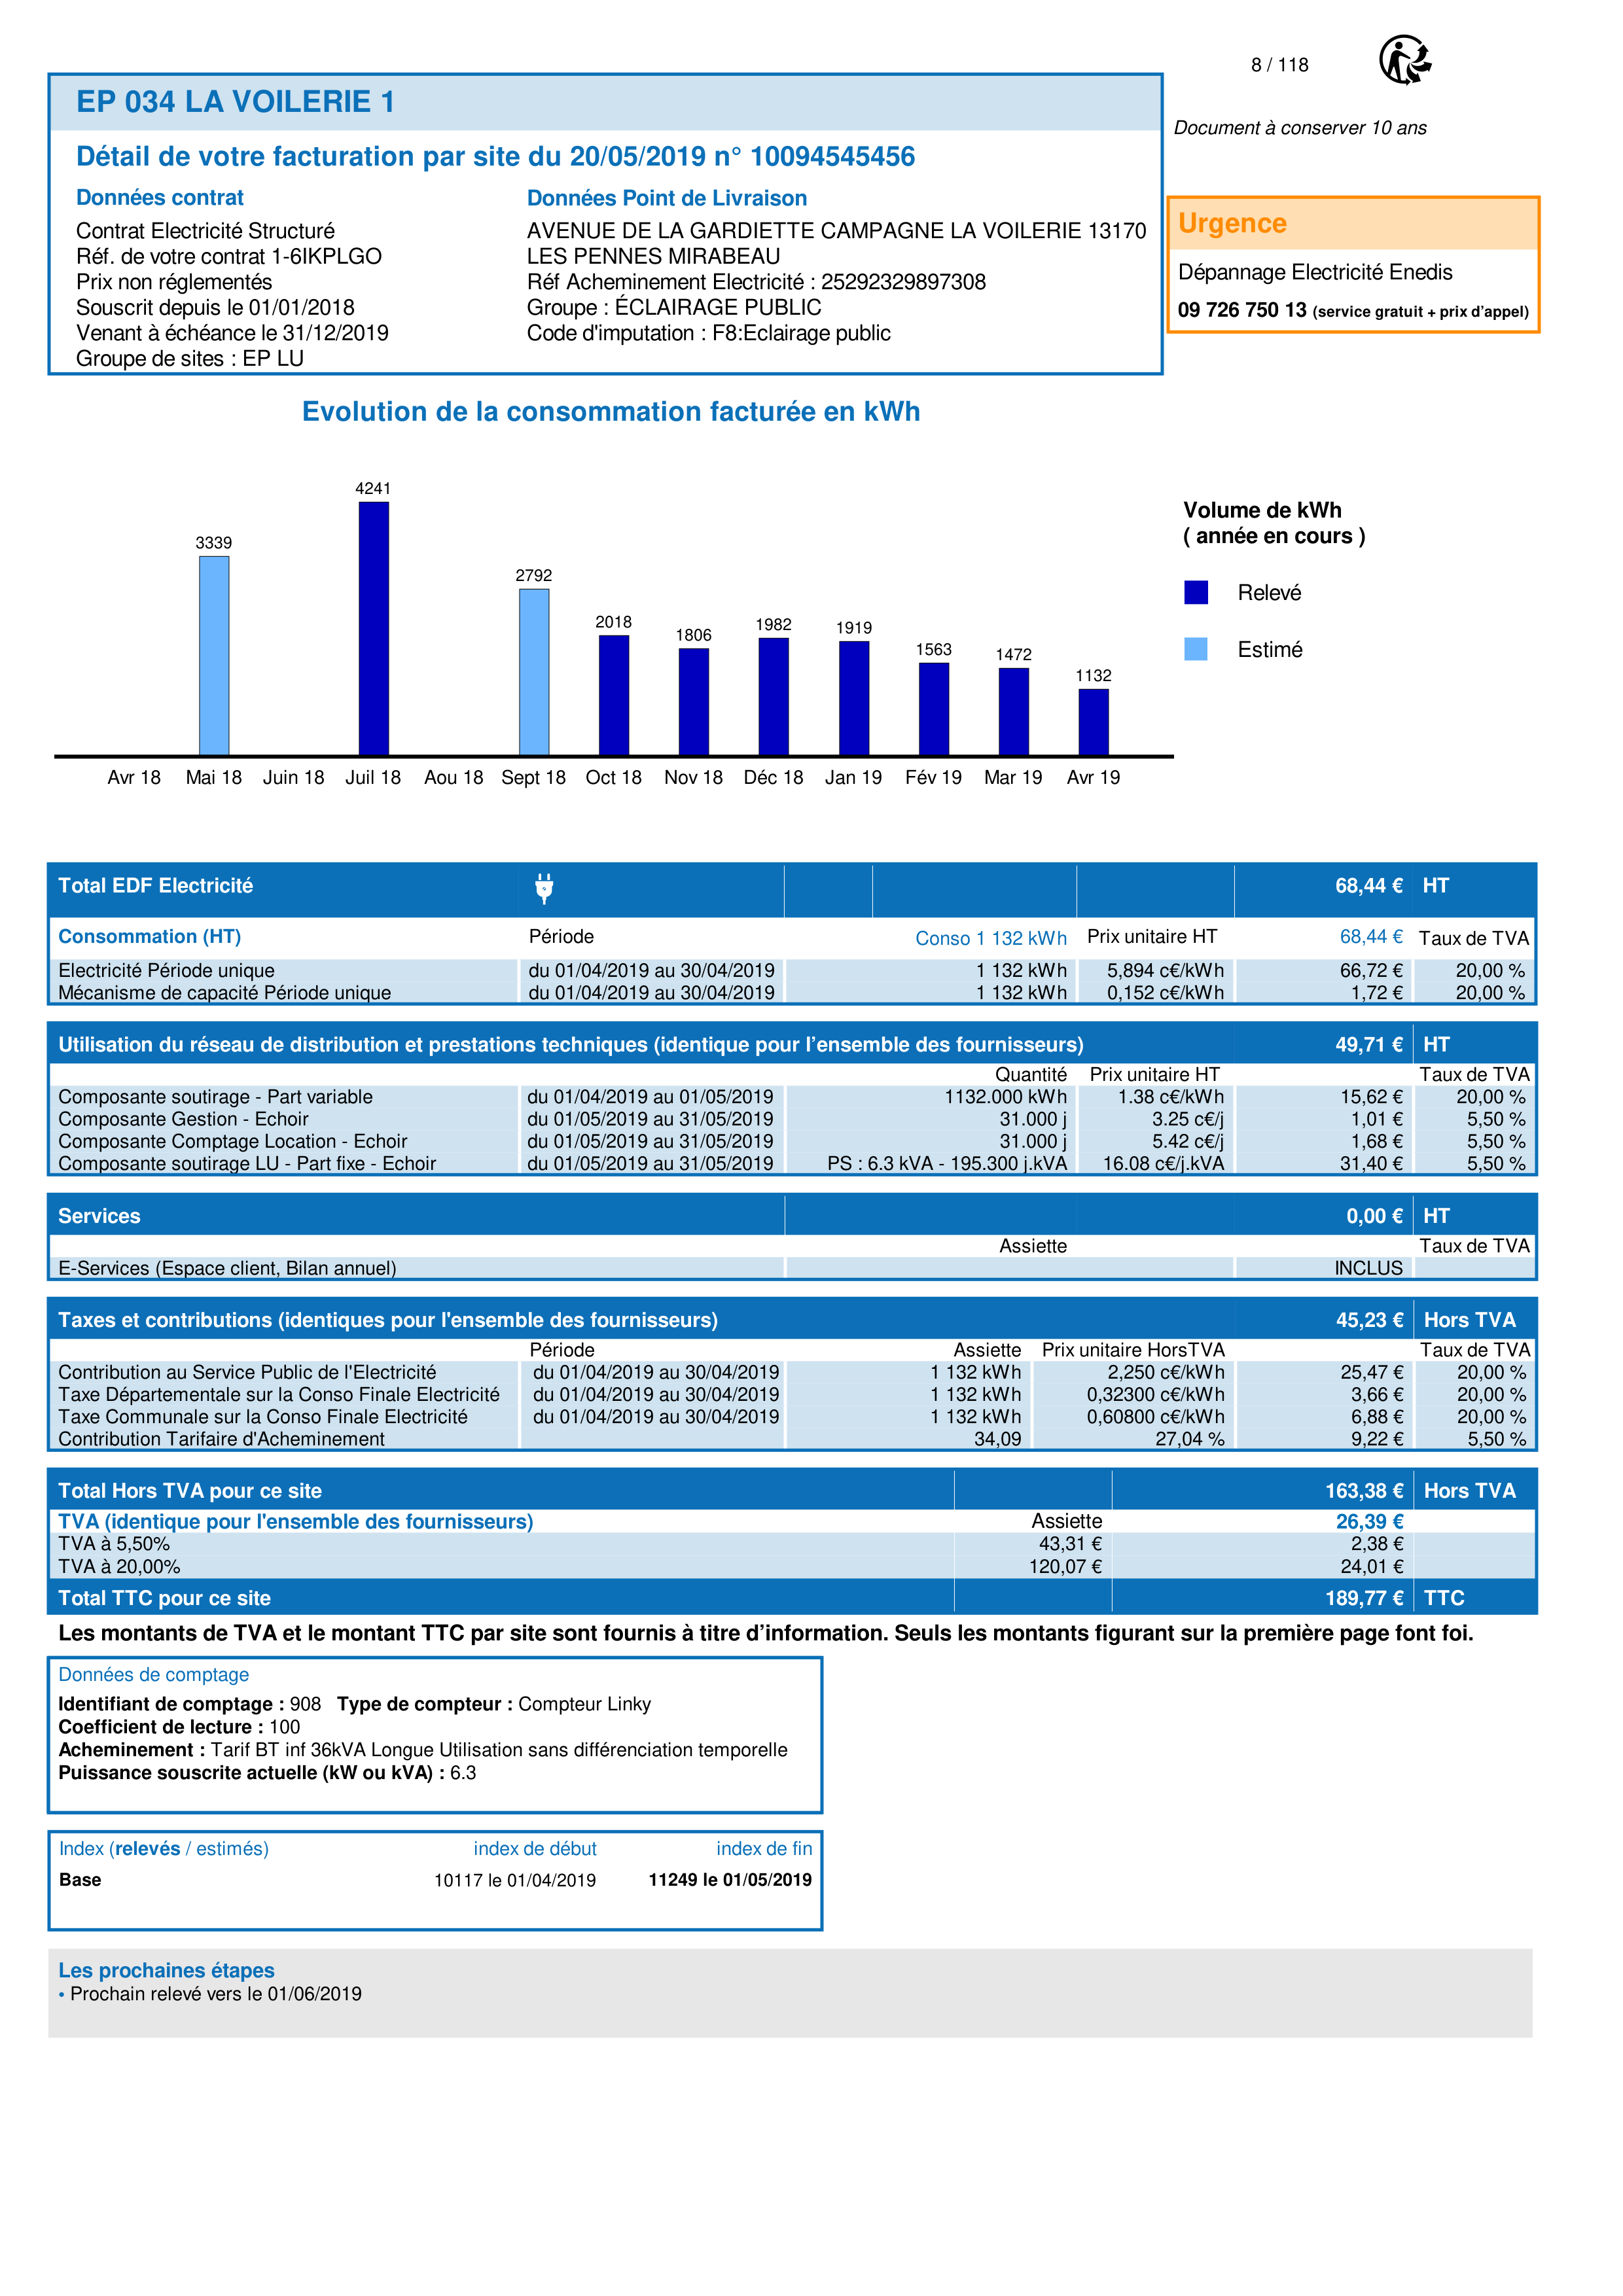area: (48, 1831, 819, 1929)
type_indicator: (49, 1831, 281, 1868)
